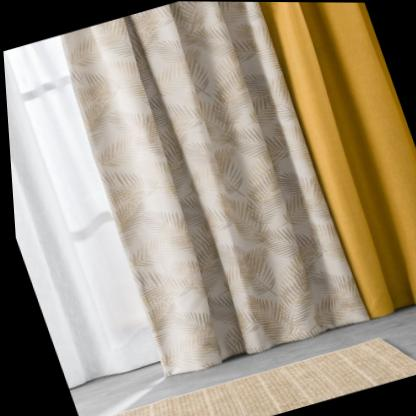Curtains: (0, 0, 416, 404)
